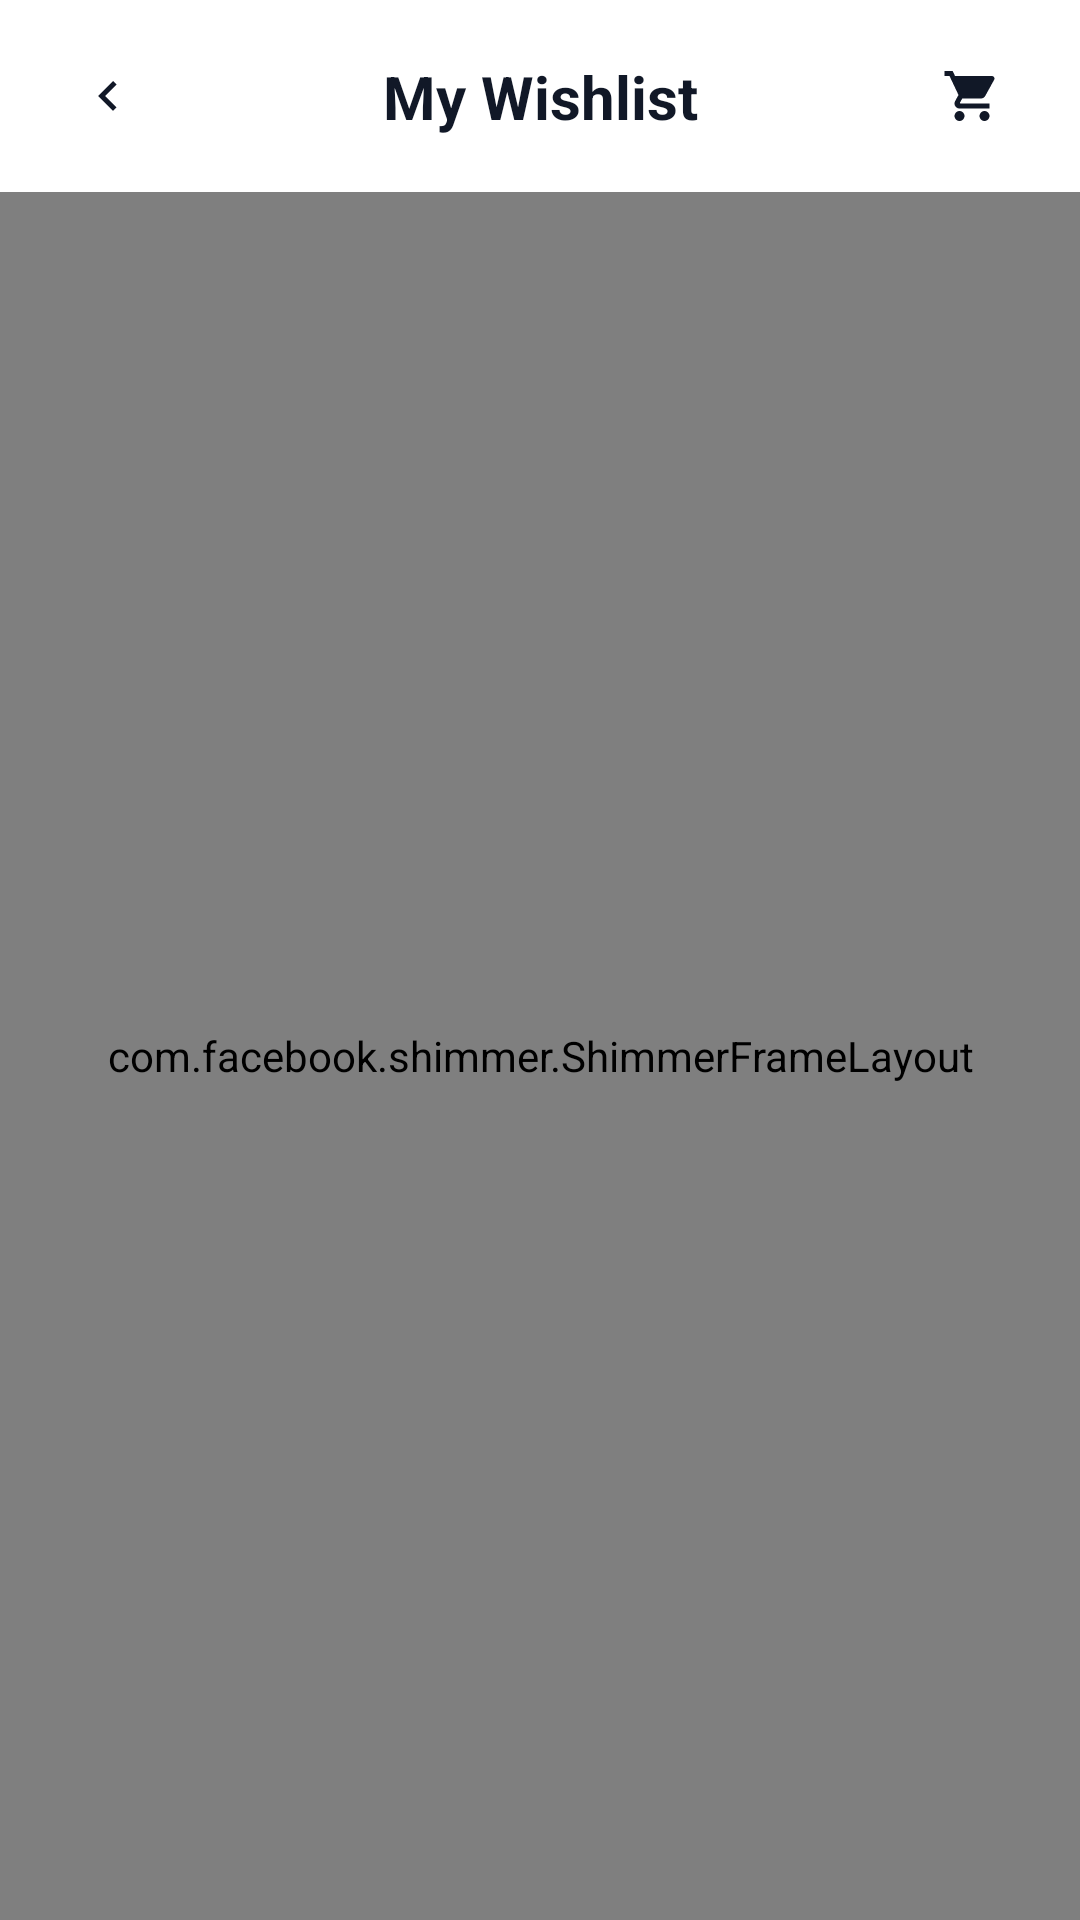

Named icons in this screenshot (1080 × 1920) and their centers, [x,y]:
back chevron: [107,96]
cart: [969,96]
